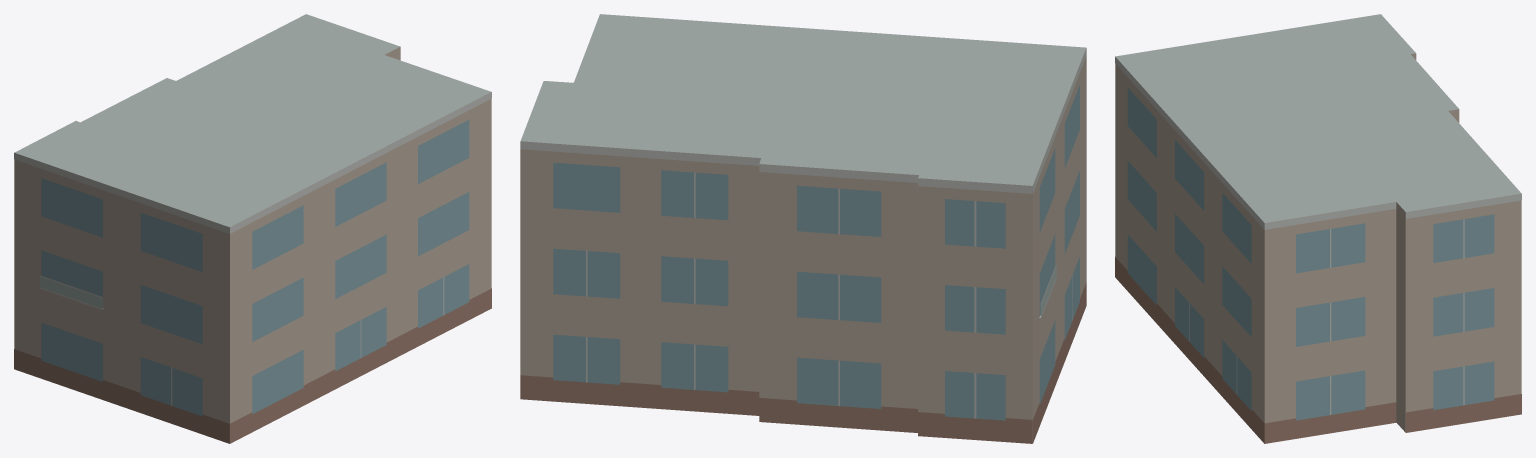
Rendered from survey-upis-32835899.glb.
3 renders of one model, left to right at view 1: azimuth 30°, elevation 25°; view 2: azimuth 150°, elevation 25°; view 3: azimuth 270°, elevation 25°, orthographic. The views are drawn at different scales.
Visible parts, largest first — view 1: survey-upis-32835899.tmp; view 2: survey-upis-32835899.tmp; view 3: survey-upis-32835899.tmp.
Boxes of the visible parts, x1=… form: survey-upis-32835899.tmp: x1=14, y1=14, x2=491, y2=443; survey-upis-32835899.tmp: x1=520, y1=14, x2=1086, y2=443; survey-upis-32835899.tmp: x1=1115, y1=14, x2=1521, y2=443.
Size of the model in its own units: 16.06 by 7.9 by 13.2.
